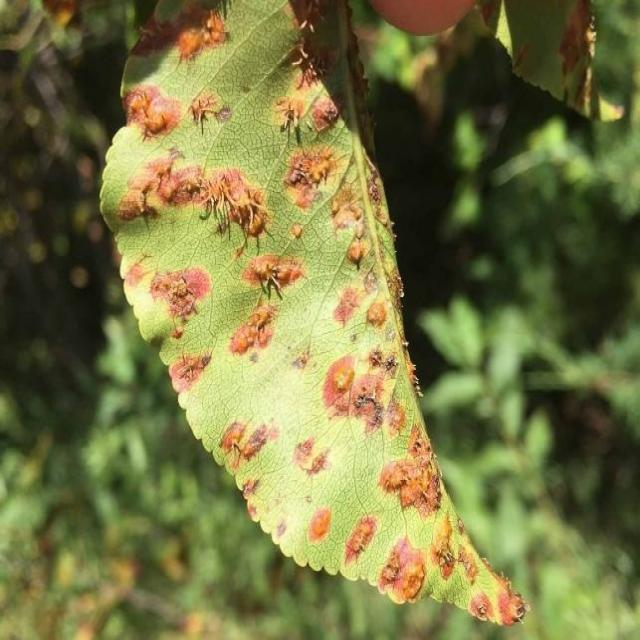Gymnosporangium_Rusts: (100, 1, 530, 628)
